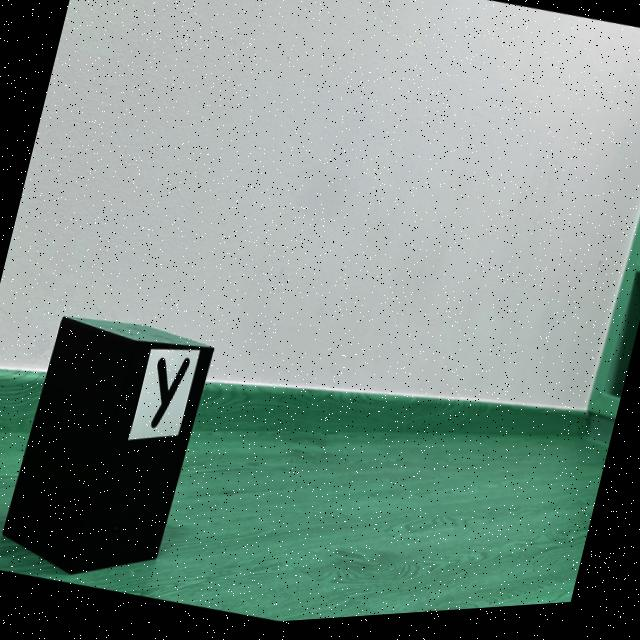Y: (150, 359, 190, 430)
